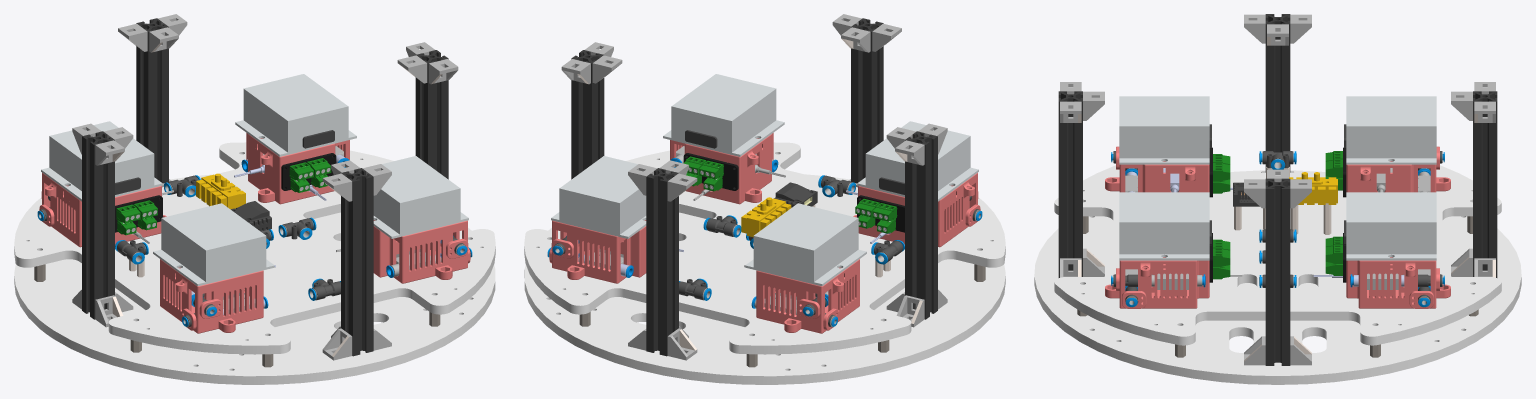
3 views of the same model, side by side, from view 1: azimuth 30°, elevation 25°; view 2: azimuth 150°, elevation 25°; view 3: azimuth 270°, elevation 25° (orthographic).
Parts seen in each view (by area): view 1: alpha3_actuator_plate-2 - Part_clonedChild, alpha3_top_plate-1 - Part_clonedChild, Mirbuckboost-1 3 - Part, Mirbuckboost-1 4 - Part, RS_850-8476_160mm-1 3 - Part, Mirbuckboost-1 2 - Part, RS_850-8476_160mm-1 2 - Part, RS_850-8476_160mm-1 - Part, Mirbuckboost-1 - Part, Miractuator_mount_2_bottom-1 - Part, actuator_mount_2_bottom-1 2 - Part, RS_850-8476_160mm-1 4 - Part (+22 smaller); view 2: alpha3_actuator_plate-2 - Part_clonedChild, alpha3_top_plate-1 - Part_clonedChild, Mirbuckboost-1 - Part, Mirbuckboost-1 2 - Part, RS_850-8476_160mm-1 - Part, Mirbuckboost-1 4 - Part, RS_850-8476_160mm-1 2 - Part, RS_850-8476_160mm-1 3 - Part, Mirbuckboost-1 3 - Part, actuator_mount_2_bottom-1 - Part, Miractuator_mount_2_bottom-1 2 - Part, RS_850-8476_160mm-1 4 - Part (+22 smaller); view 3: alpha3_actuator_plate-2 - Part_clonedChild, alpha3_top_plate-1 - Part_clonedChild, Mirbuckboost-1 - Part, Mirbuckboost-1 2 - Part, Mirbuckboost-1 3 - Part, Mirbuckboost-1 4 - Part, RS_850-8476_160mm-1 4 - Part, RS_850-8476_160mm-1 - Part, RS_850-8476_160mm-1 3 - Part, RS_850-8476_160mm-1 2 - Part, actuator_mount_2_bottom-1 2 - Part, Miractuator_mount_2_bottom-1 2 - Part (+18 smaller).
Part boxes in pixels (box(x1,y1,x2,y2)): alpha3_actuator_plate-2 - Part_clonedChild: box(14, 142, 495, 354); alpha3_top_plate-1 - Part_clonedChild: box(14, 174, 495, 384); Mirbuckboost-1 3 - Part: box(153, 203, 274, 286); Mirbuckboost-1 4 - Part: box(235, 74, 356, 156); RS_850-8476_160mm-1 3 - Part: box(341, 168, 373, 356); Mirbuckboost-1 2 - Part: box(373, 156, 468, 238); RS_850-8476_160mm-1 2 - Part: box(82, 131, 114, 319); RS_850-8476_160mm-1 - Part: box(136, 18, 168, 183); Mirbuckboost-1 - Part: box(41, 121, 162, 201); Miractuator_mount_2_bottom-1 - Part: box(160, 268, 263, 333); actuator_mount_2_bottom-1 2 - Part: box(373, 229, 467, 283); RS_850-8476_160mm-1 4 - Part: box(415, 50, 448, 179); alpha3_actuator_plate-2 - Part_clonedChild: box(524, 142, 1005, 354); alpha3_top_plate-1 - Part_clonedChild: box(524, 174, 1005, 384); Mirbuckboost-1 - Part: box(745, 203, 866, 286); Mirbuckboost-1 2 - Part: box(663, 74, 784, 156); RS_850-8476_160mm-1 - Part: box(646, 168, 678, 356); Mirbuckboost-1 4 - Part: box(551, 156, 646, 238); RS_850-8476_160mm-1 2 - Part: box(905, 131, 937, 319); RS_850-8476_160mm-1 3 - Part: box(851, 18, 883, 183); Mirbuckboost-1 3 - Part: box(857, 121, 978, 201); actuator_mount_2_bottom-1 - Part: box(756, 268, 859, 333); Miractuator_mount_2_bottom-1 2 - Part: box(552, 229, 646, 283); RS_850-8476_160mm-1 4 - Part: box(571, 50, 604, 179); alpha3_actuator_plate-2 - Part_clonedChild: box(1054, 165, 1501, 345); alpha3_top_plate-1 - Part_clonedChild: box(1034, 170, 1521, 384); Mirbuckboost-1 - Part: box(1346, 96, 1436, 164); Mirbuckboost-1 2 - Part: box(1119, 192, 1209, 260); Mirbuckboost-1 3 - Part: box(1119, 96, 1209, 164); Mirbuckboost-1 4 - Part: box(1346, 192, 1436, 260); RS_850-8476_160mm-1 4 - Part: box(1265, 178, 1290, 365); RS_850-8476_160mm-1 - Part: box(1473, 91, 1497, 277); RS_850-8476_160mm-1 3 - Part: box(1058, 91, 1082, 277); RS_850-8476_160mm-1 2 - Part: box(1265, 14, 1290, 172); actuator_mount_2_bottom-1 2 - Part: box(1105, 260, 1209, 308); Miractuator_mount_2_bottom-1 2 - Part: box(1346, 260, 1450, 308).
Size of the model in its own units: 0.4 by 0.168 by 0.3998.
